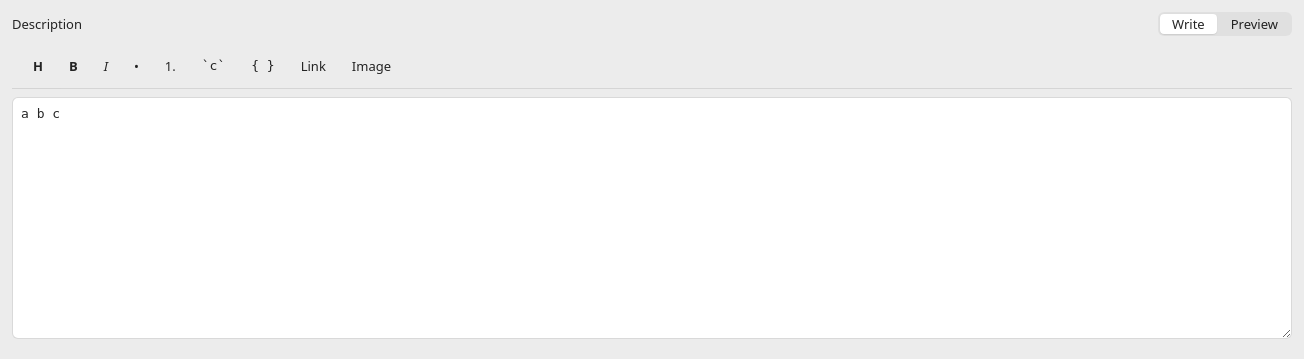
DescriptionEditor toolbar (FR2) › Bold applies its command to the selection
Step 1. Click the button named "Bold" → (73, 66), box left=60, top=54, right=87, bottom=78
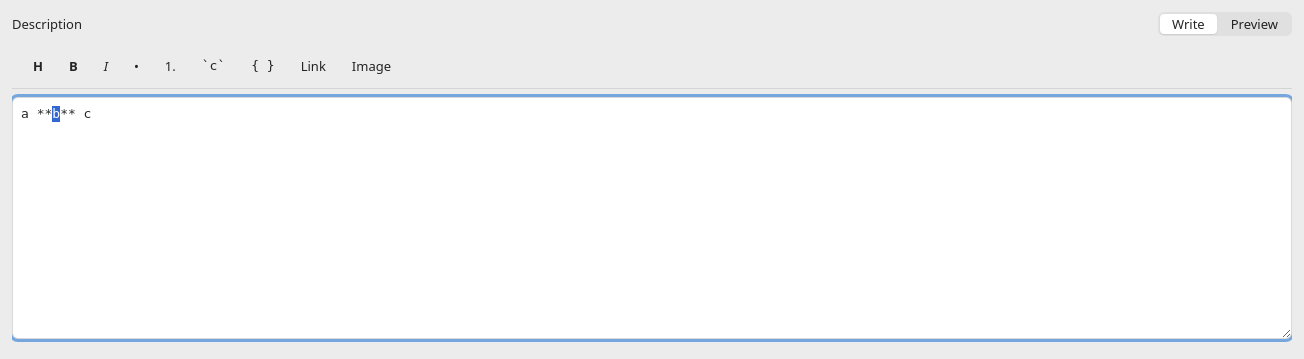
Now the text box labelled "Description" holds "a **b** c"
